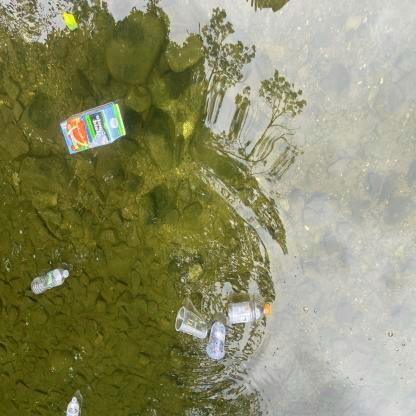Plastic: (222, 297, 271, 330), (26, 264, 71, 298), (172, 302, 211, 341), (206, 316, 227, 368), (63, 392, 83, 416)
